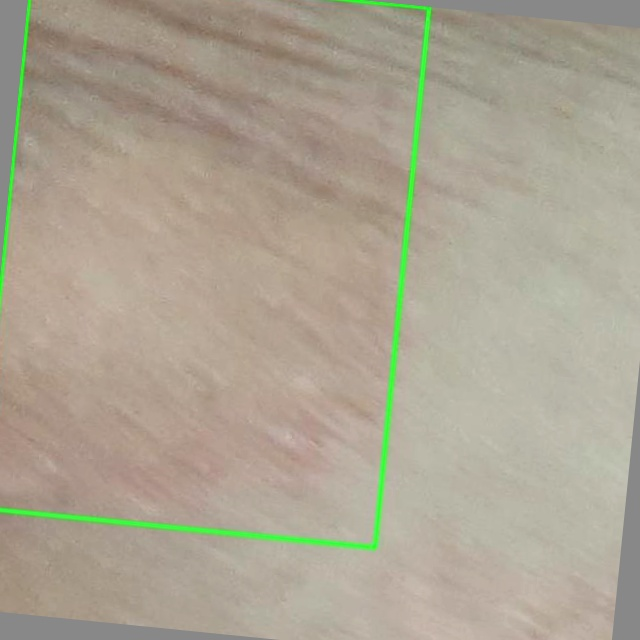Tinea Corporis: (0, 0, 429, 547)
